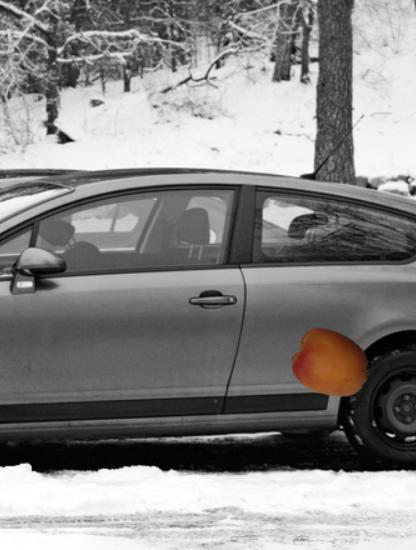Apricot: (292, 324, 371, 403)
